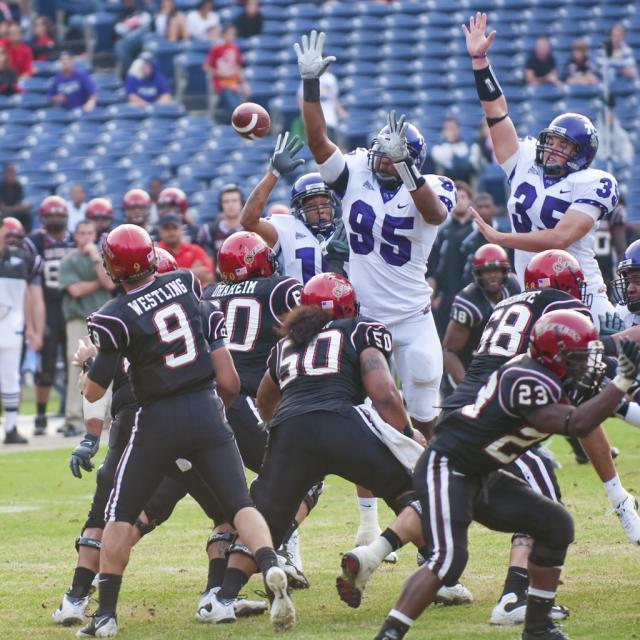ball: (231, 103, 271, 140)
